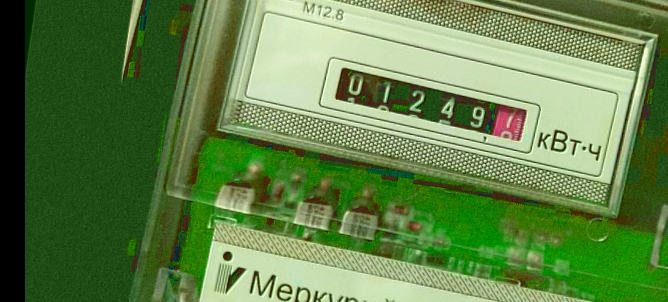0: (347, 69, 367, 97)
1: (378, 77, 396, 105)
2: (407, 87, 427, 115)
4: (439, 93, 459, 120)
7: (502, 103, 521, 131)
9: (467, 102, 488, 130)
screen: (315, 53, 547, 158)
